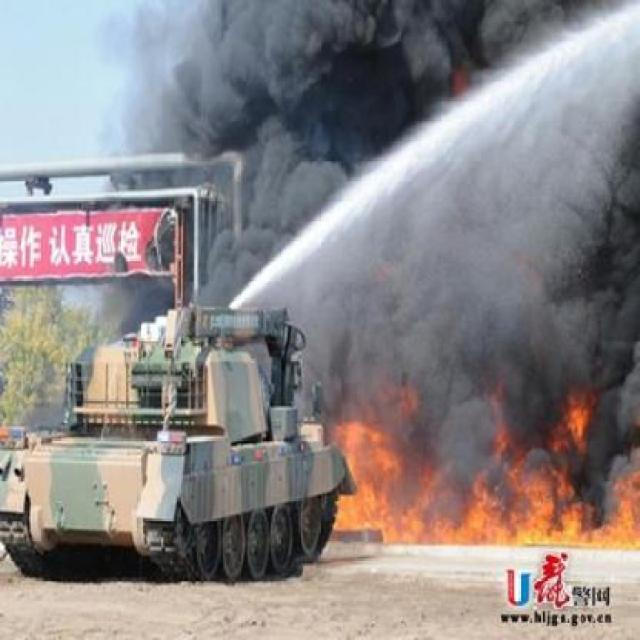Fire: (325, 379, 640, 555)
